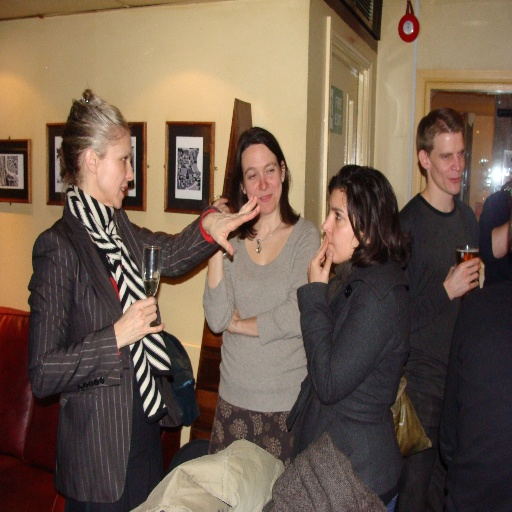hand: (205, 192, 261, 259), (114, 290, 157, 354), (443, 256, 481, 299), (305, 234, 334, 285), (225, 306, 240, 336), (211, 195, 230, 213)
